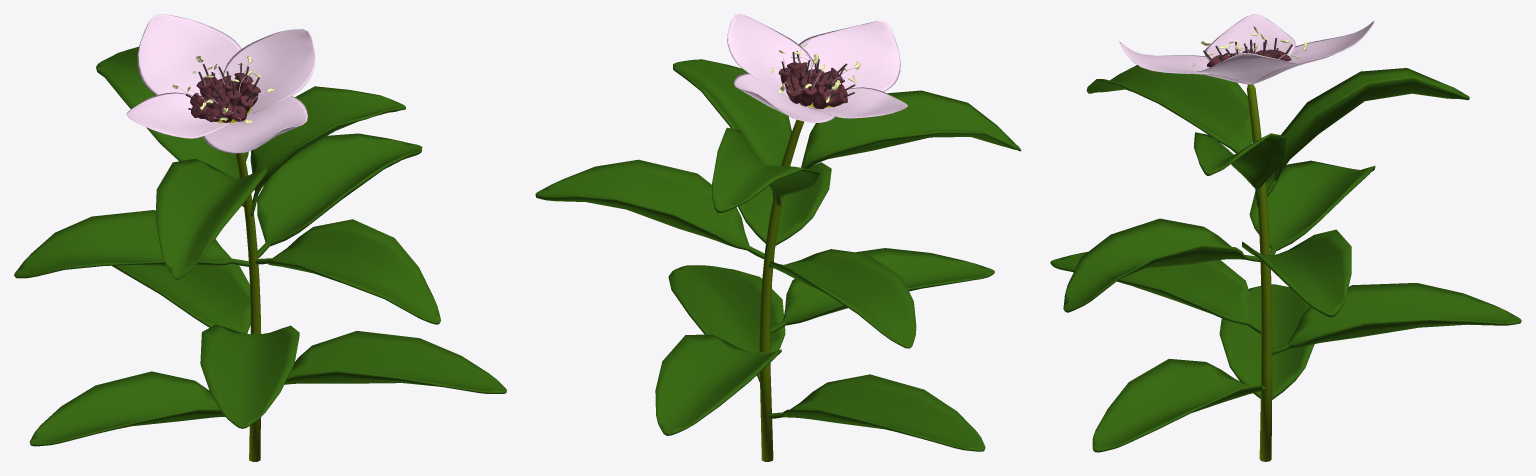
Rendered from Cornus Suecica.fbx.
3 renders of one model, left to right at view 1: azimuth 30°, elevation 25°; view 2: azimuth 150°, elevation 25°; view 3: azimuth 270°, elevation 25°, orthographic.
Visible parts, largest first — view 1: WholePlant; view 2: WholePlant; view 3: WholePlant.
Boxes of the visible parts, box(x1,y1,x2,y2) form: WholePlant: box(14, 14, 506, 461); WholePlant: box(535, 14, 1021, 461); WholePlant: box(1050, 14, 1521, 461).
Bounding box in the file's own units: 30.01 × 30.88 × 30.
